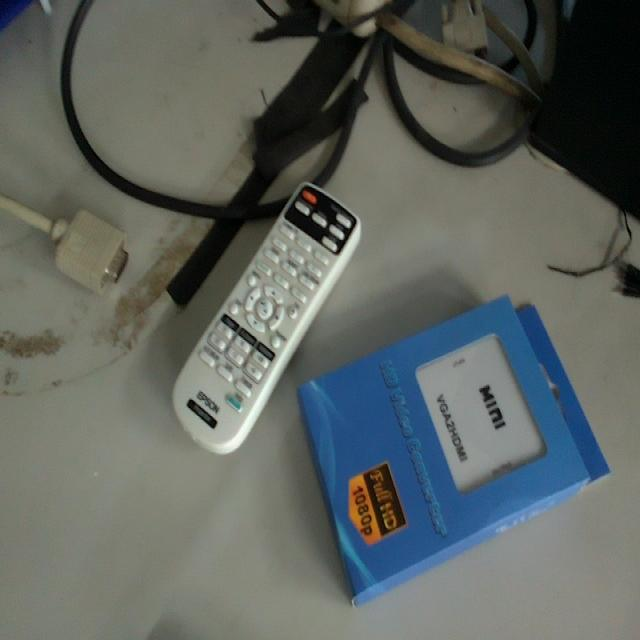remote: (300, 295, 608, 610), (170, 178, 360, 455)
